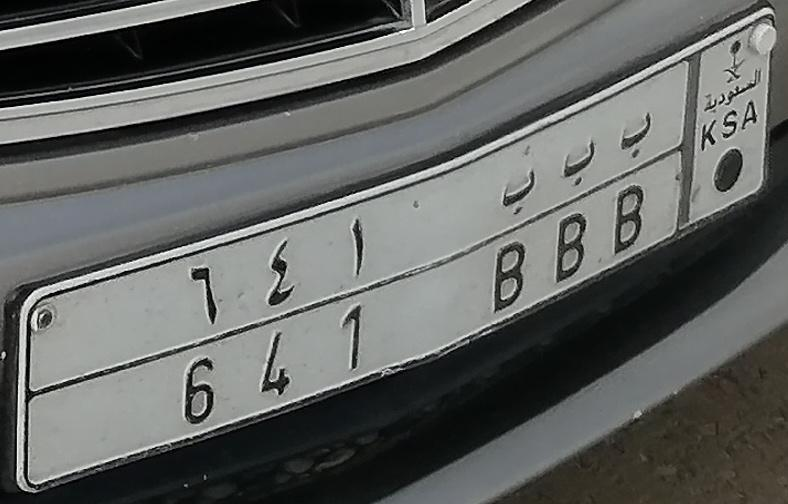1: (335, 215, 374, 376)
4: (256, 236, 304, 402)
6: (173, 264, 227, 423)
B: (487, 164, 539, 313), (607, 110, 659, 256), (550, 140, 602, 284)
